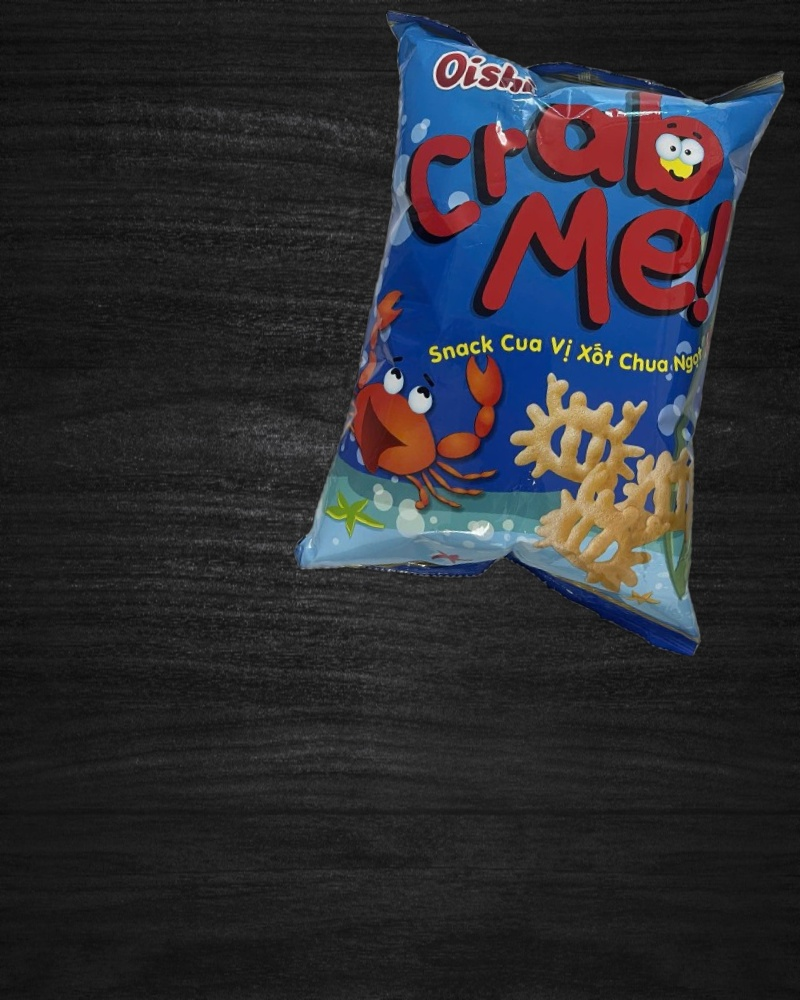Snack chay: (286, 2, 800, 660)
